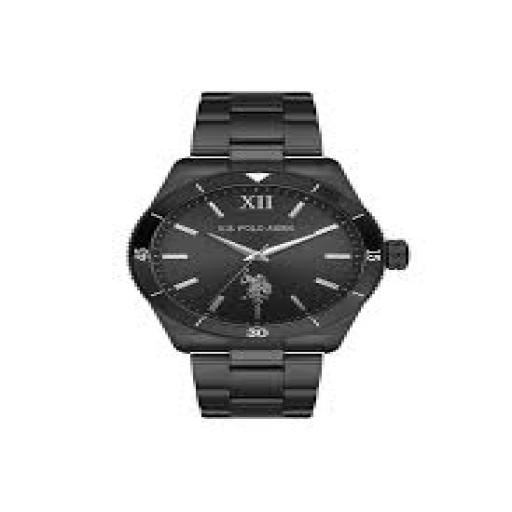KolSaati: (90, 72, 423, 430)
